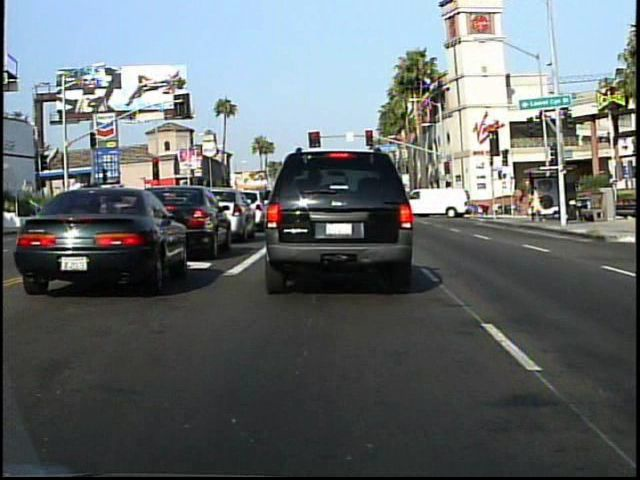person: (527, 183, 545, 225)
